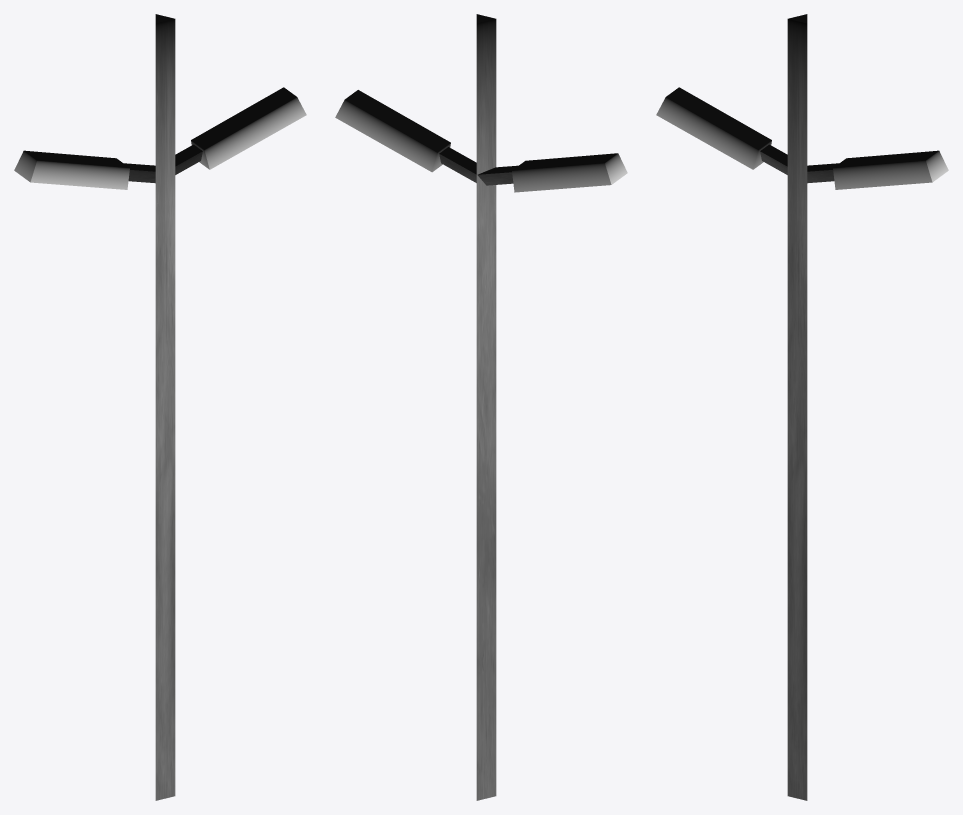
Rendered from AMB_LIGHT_D4.glb.
3 renders of one model, left to right at view 1: azimuth 30°, elevation 25°; view 2: azimuth 150°, elevation 25°; view 3: azimuth 330°, elevation 25°, orthographic.
Parts seen in each view (by area): view 1: LIGHT; view 2: LIGHT; view 3: LIGHT.
Part boxes in pixels (x1,y1,x2,y2): LIGHT: (14, 14, 306, 800); LIGHT: (335, 14, 627, 800); LIGHT: (656, 14, 948, 800).
Size of the model in its own units: 4.89 by 13.13 by 0.5.
3 materials, 2 textured.
